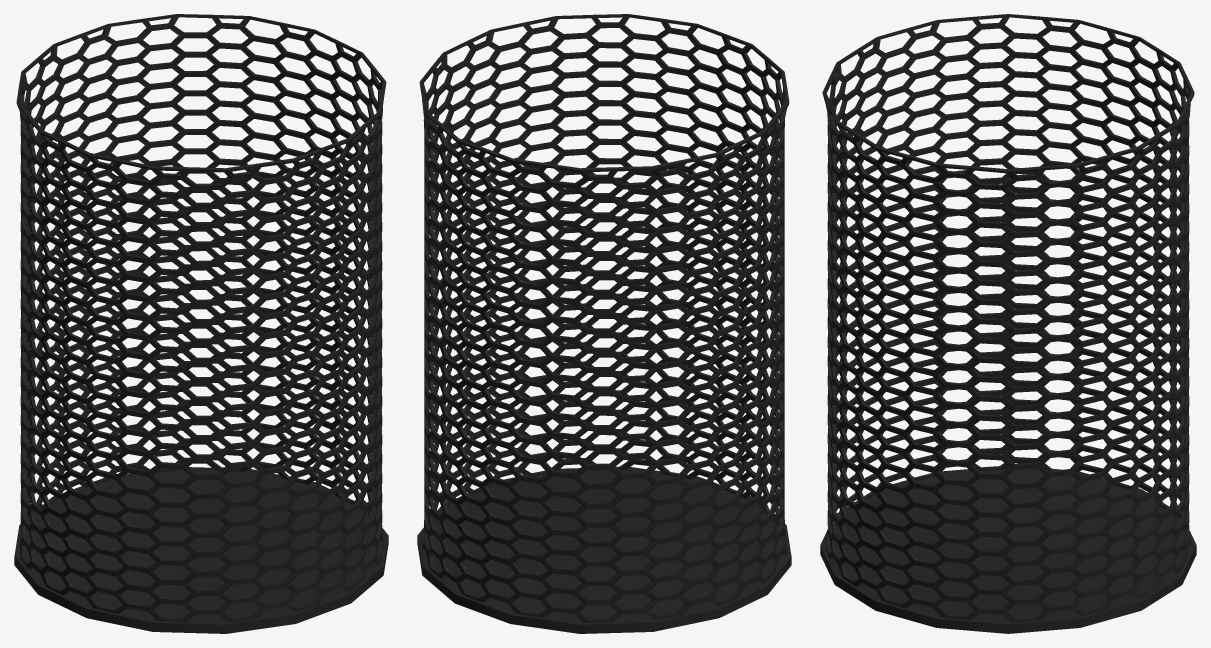
The model's file is recycle_bin.glb.
3 views of the same model, side by side, from view 1: azimuth 30°, elevation 25°; view 2: azimuth 150°, elevation 25°; view 3: azimuth 270°, elevation 25° (orthographic).
Visible parts, largest first — view 1: Cylinder001; view 2: Cylinder001; view 3: Cylinder001.
Boxes of the visible parts, box(x1,y1,x2,y2) form: Cylinder001: box(14, 14, 388, 633); Cylinder001: box(417, 14, 791, 633); Cylinder001: box(820, 14, 1196, 633).
Bounding box in the file's own units: 0.0515 × 0.07 × 0.0515.
1 material, 1 textured.
